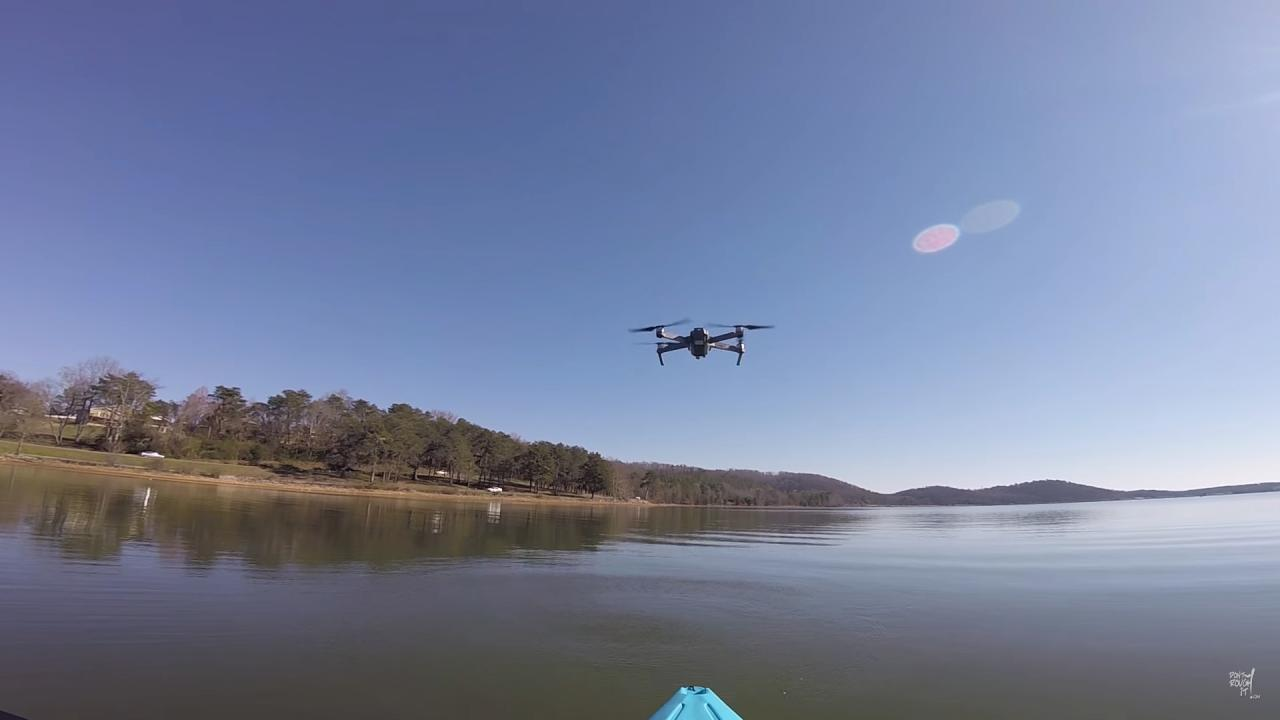Drone: (619, 308, 780, 376)
